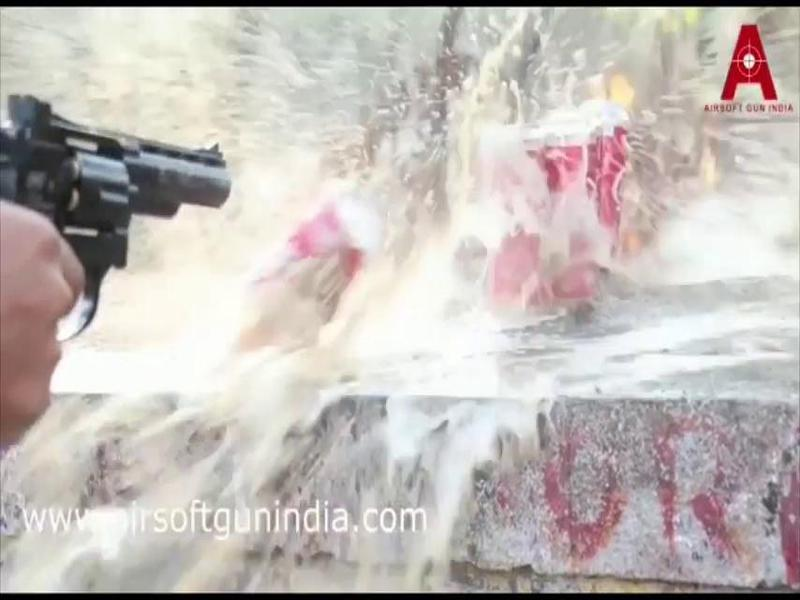Revolver: (6, 72, 235, 325)
